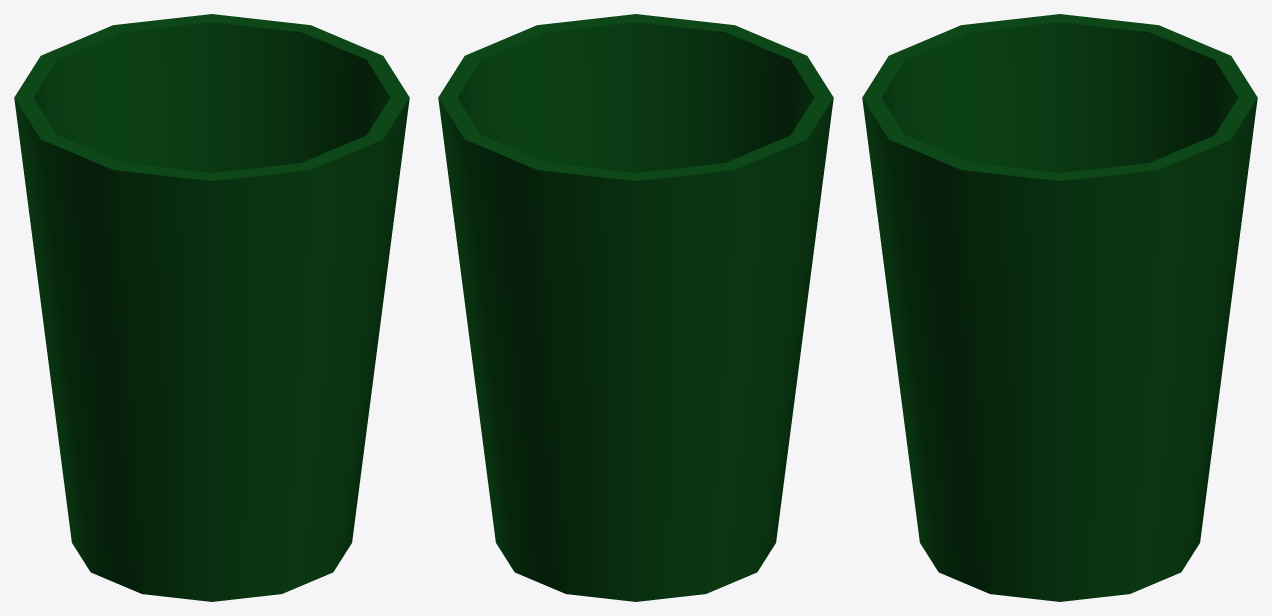
The model's file is BIN.fbx.
The picture shows the model from 3 angles, left to right: view 1: azimuth 30°, elevation 25°; view 2: azimuth 150°, elevation 25°; view 3: azimuth 270°, elevation 25°; orthographic projection.
Parts seen in each view (by area): view 1: TrashCan; view 2: TrashCan; view 3: TrashCan.
Boxes of the visible parts, x1,y1,x2,y2 form: TrashCan: [14, 14, 409, 601]; TrashCan: [438, 14, 833, 601]; TrashCan: [862, 14, 1257, 601].
Size of the model in its own units: 1.71 by 2.13 by 1.71.
